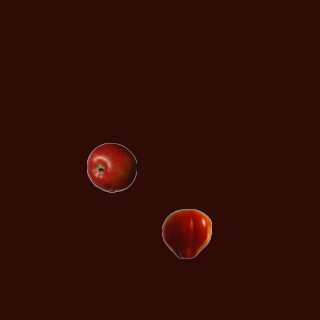Apple Braeburn: (86, 142, 136, 192)
Tomato 1: (161, 208, 211, 258)
